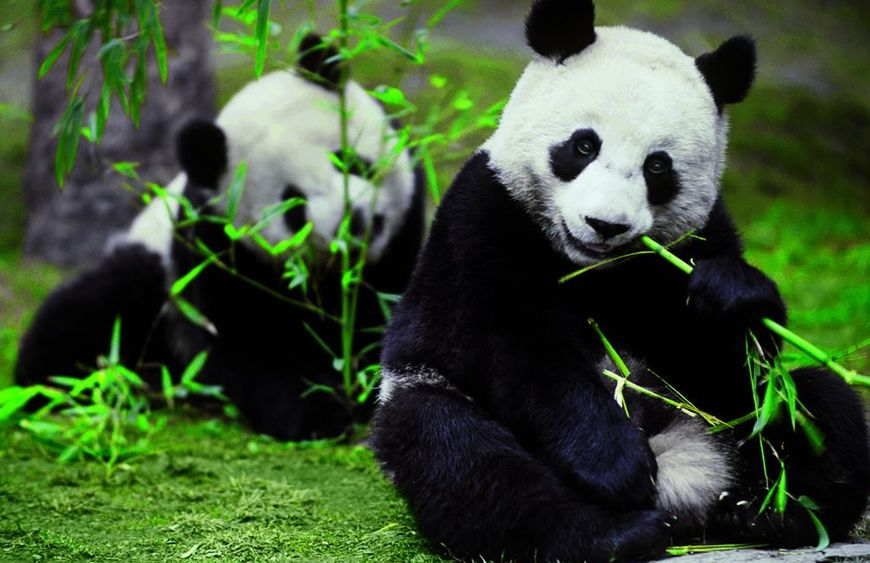panda: (433, 2, 833, 549), (54, 52, 433, 423)
